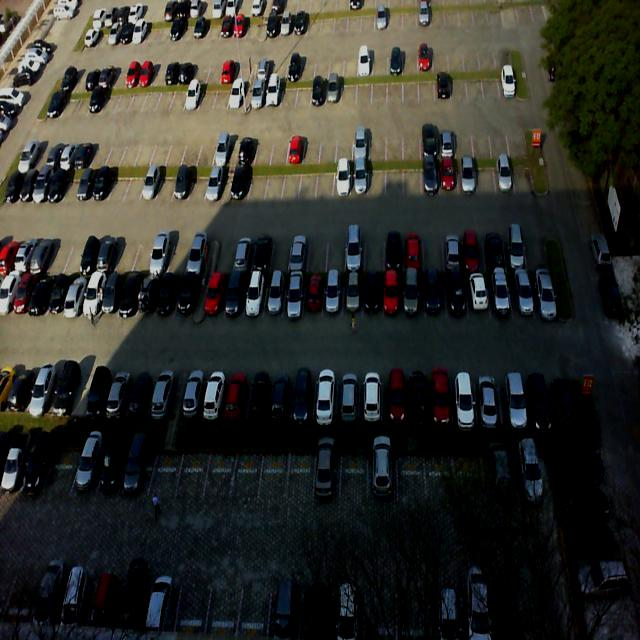space-empty: (43, 445, 79, 499), (148, 444, 182, 500), (231, 451, 264, 505), (175, 445, 209, 495), (204, 448, 238, 498), (259, 448, 291, 500), (288, 449, 314, 504), (130, 236, 156, 276), (113, 238, 140, 276), (525, 229, 549, 271), (167, 238, 193, 276), (188, 164, 211, 206), (425, 229, 445, 276), (155, 165, 177, 207), (511, 156, 534, 196), (213, 239, 235, 275), (268, 236, 290, 272), (307, 234, 327, 273), (324, 235, 344, 273), (364, 235, 383, 273), (478, 158, 496, 198), (299, 166, 317, 205), (283, 164, 300, 205), (250, 166, 268, 204), (368, 162, 386, 200), (267, 166, 283, 207), (403, 163, 421, 197), (388, 162, 404, 200), (316, 166, 332, 200)
space-occupied: (94, 445, 132, 502), (123, 442, 157, 502), (71, 446, 106, 501), (545, 370, 576, 426), (312, 451, 342, 507), (223, 370, 254, 424), (21, 446, 55, 494), (499, 373, 527, 431), (64, 367, 93, 421), (476, 372, 502, 429), (523, 371, 549, 428), (222, 272, 249, 326), (117, 271, 145, 323), (83, 371, 112, 421), (136, 267, 162, 321), (428, 375, 454, 429), (452, 374, 479, 426), (106, 371, 134, 421), (268, 373, 294, 425), (312, 372, 336, 428), (154, 274, 180, 324), (127, 370, 153, 420), (203, 370, 229, 420), (246, 372, 272, 422), (262, 270, 286, 324), (530, 270, 557, 318), (148, 374, 175, 422), (359, 371, 382, 426), (174, 272, 198, 324), (405, 374, 429, 426), (101, 270, 125, 320), (241, 275, 265, 325), (335, 373, 359, 423), (290, 372, 313, 424), (382, 371, 405, 423), (486, 273, 511, 320), (483, 227, 507, 275), (181, 373, 206, 419), (443, 226, 466, 273), (205, 273, 225, 327), (505, 227, 527, 273), (303, 276, 324, 324), (467, 275, 488, 322), (148, 237, 172, 278), (509, 276, 531, 320), (322, 277, 343, 323), (444, 277, 467, 319), (282, 276, 302, 324), (188, 239, 212, 278), (172, 165, 194, 207), (139, 165, 162, 205), (404, 226, 424, 272), (363, 276, 383, 322), (404, 274, 424, 320), (426, 276, 446, 322), (382, 231, 404, 272), (204, 166, 226, 206), (287, 234, 309, 274), (464, 228, 484, 272), (231, 164, 252, 205), (229, 238, 251, 277), (251, 235, 273, 273), (345, 231, 364, 275), (384, 276, 402, 322), (345, 275, 362, 321), (458, 162, 478, 198), (494, 160, 514, 194), (333, 165, 350, 201), (422, 163, 440, 197), (440, 162, 458, 195), (351, 164, 367, 198)
